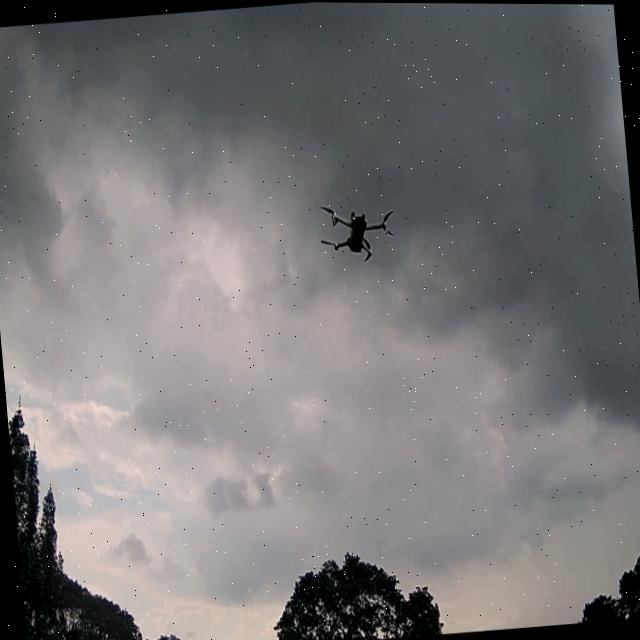drone: (316, 197, 397, 265)
